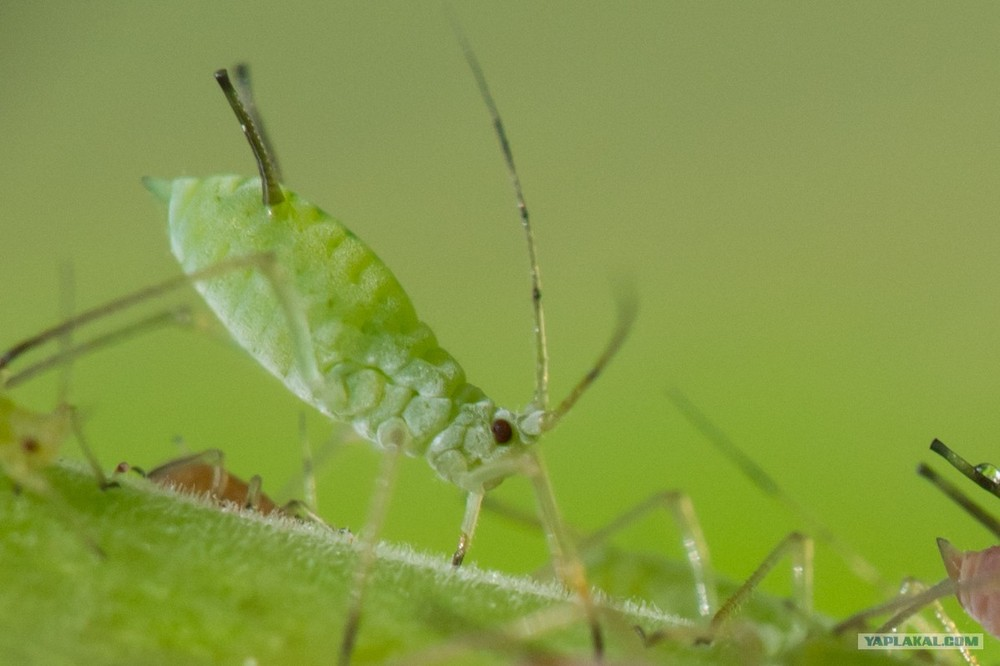Pulgon: (70, 60, 708, 619)
